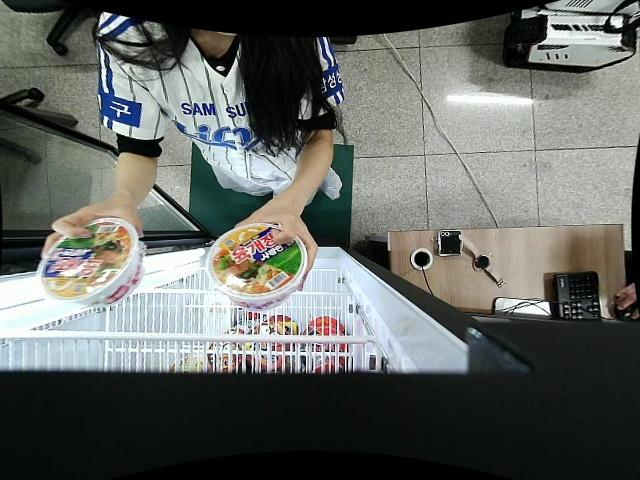00_hand: (231, 199, 317, 291), (40, 201, 145, 261)
09_yukGaeJang: (36, 217, 143, 305), (203, 224, 307, 311)
